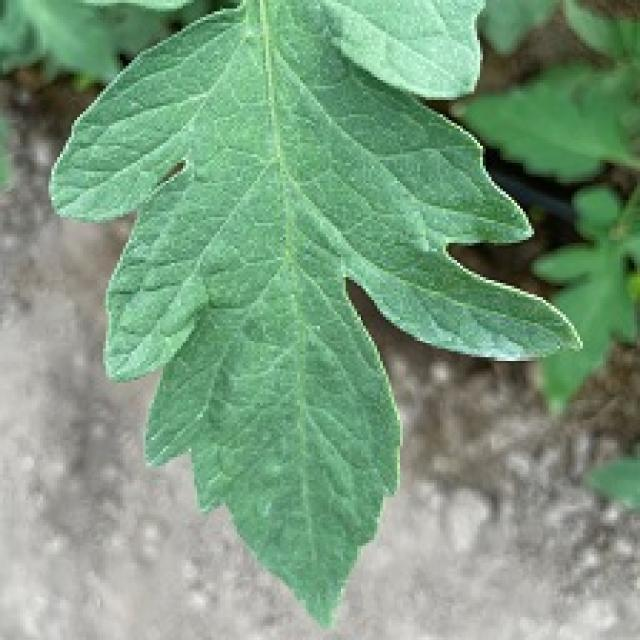Healthy: (12, 0, 640, 640)
